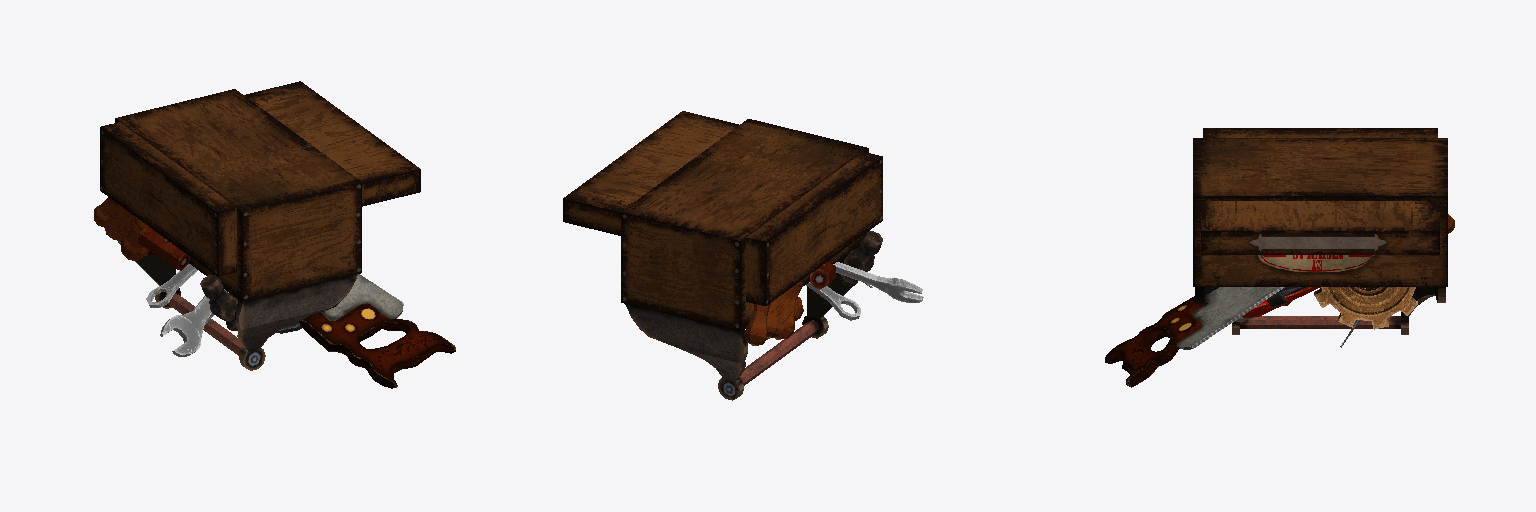
3 renders of one model, left to right at view 1: azimuth 30°, elevation 25°; view 2: azimuth 150°, elevation 25°; view 3: azimuth 270°, elevation 25°, orthographic.
Visible parts, largest first — view 1: object_0; view 2: object_0; view 3: object_0.
Boxes of the visible parts, x1,y1,x2,y2 form: object_0: [94, 81, 455, 388]; object_0: [563, 111, 923, 400]; object_0: [1105, 128, 1454, 387].
Size of the model in its own units: 79.93 by 55.18 by 97.11.
1 materials, 1 textured.